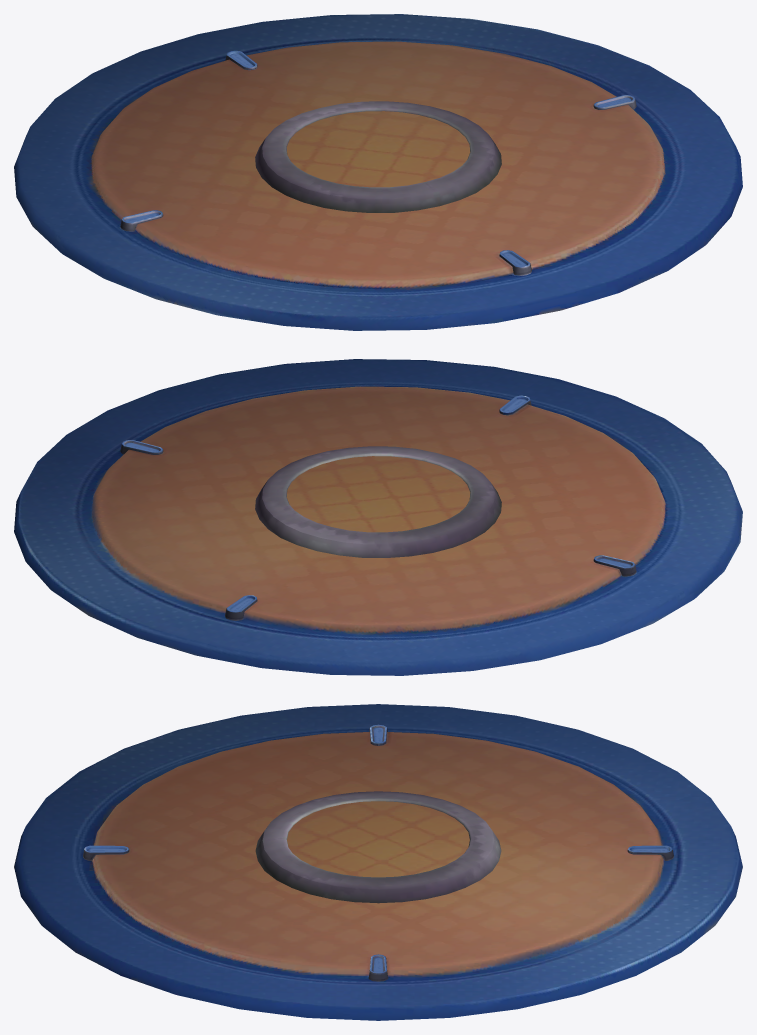
The model's file is pref_TPC_v2_WSJ_NeutralScoreArea03_orange_static_lv1.fbx.
3 renders of one model, top to bottom at view 1: azimuth 30°, elevation 25°; view 2: azimuth 150°, elevation 25°; view 3: azimuth 270°, elevation 25°, orthographic.
Visible parts, largest first — view 1: sm_prop_platform06a_lv1, sm_prop_platform06b_lv1; view 2: sm_prop_platform06a_lv1, sm_prop_platform06b_lv1; view 3: sm_prop_platform06a_lv1, sm_prop_platform06b_lv1.
Boxes of the visible parts, left/top/right/bottom form: sm_prop_platform06a_lv1: left=14, top=14, right=742, bottom=330; sm_prop_platform06b_lv1: left=255, top=101, right=501, bottom=212; sm_prop_platform06a_lv1: left=14, top=359, right=742, bottom=675; sm_prop_platform06b_lv1: left=255, top=446, right=501, bottom=557; sm_prop_platform06a_lv1: left=14, top=704, right=742, bottom=1020; sm_prop_platform06b_lv1: left=255, top=791, right=501, bottom=903.
Size of the model in its own units: 7.46 by 0.3251 by 7.46.
